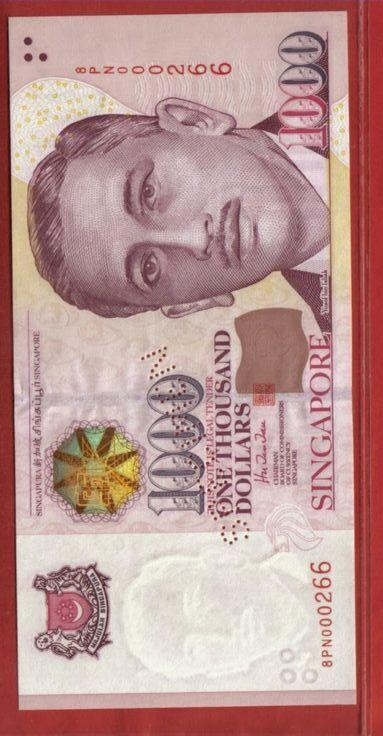1000SingaporeDollar: (21, 16, 347, 704)
